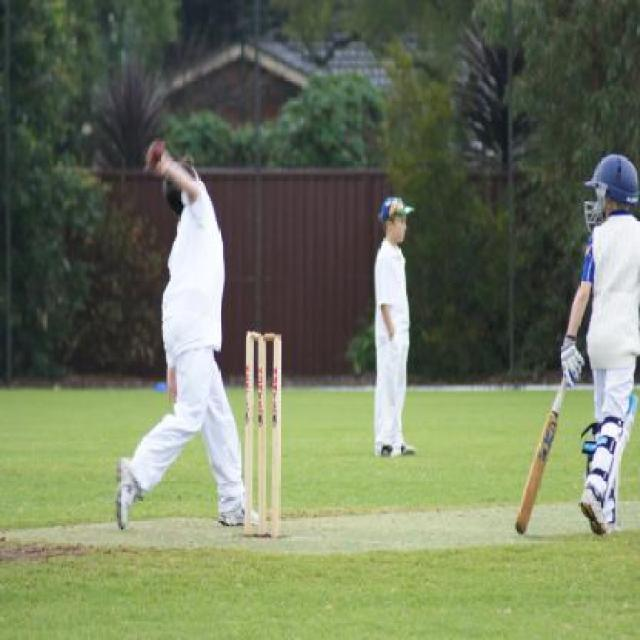-: (138, 123, 169, 177)
